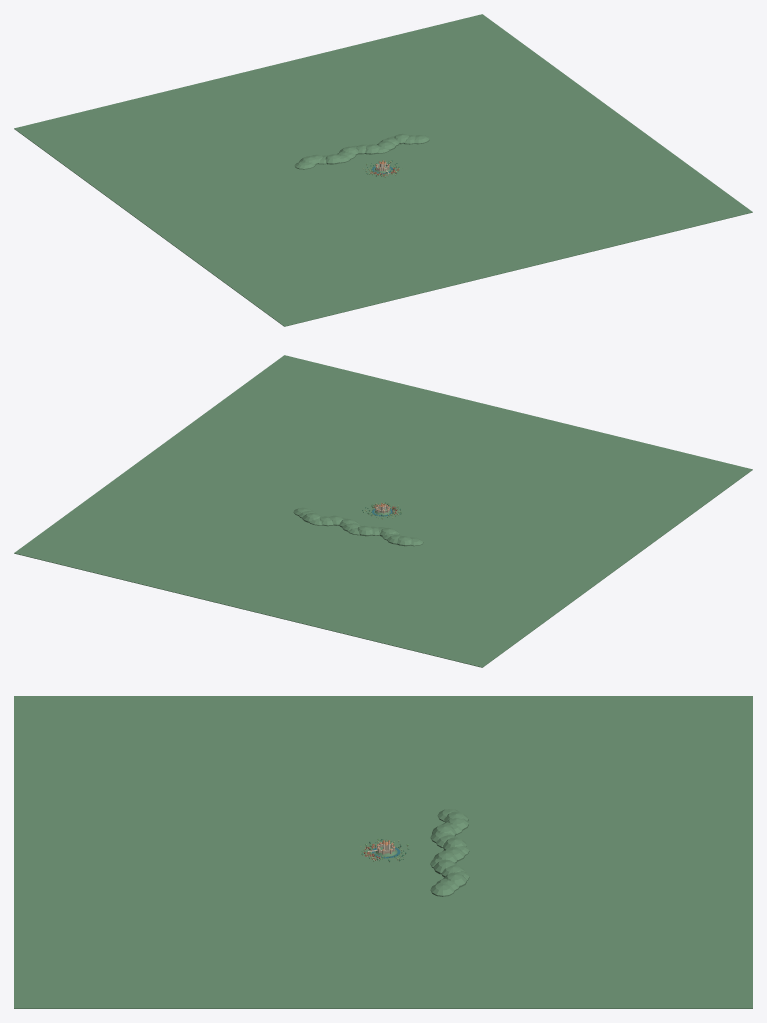
File: castle.glb
3 renders of one model, top to bottom at view 1: azimuth 30°, elevation 25°; view 2: azimuth 150°, elevation 25°; view 3: azimuth 270°, elevation 25°, orthographic. The views are drawn at different scales.
Parts seen in each view (by area): view 1: world detail batch; view 2: world detail batch; view 3: world detail batch.
Boxes of the visible parts, x1,y1,x2,y2 form: world detail batch: [14, 14, 752, 326]; world detail batch: [14, 355, 752, 667]; world detail batch: [14, 696, 752, 1008].
Size of the model in its own units: 2000 by 58.85 by 2000.
